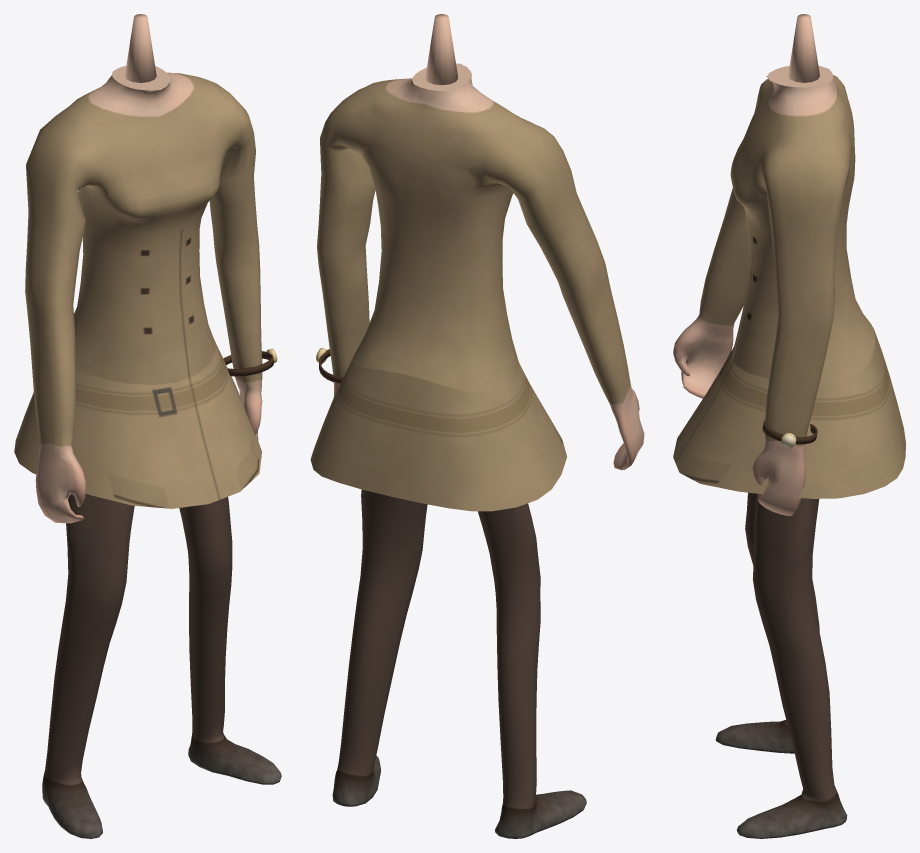
File: PH_NPC__YoungWoman_Body.fbx
3 renders of one model, left to right at view 1: azimuth 30°, elevation 25°; view 2: azimuth 150°, elevation 25°; view 3: azimuth 270°, elevation 25°, orthographic. The views are drawn at different scales.
Visible parts, largest first — view 1: PH_NPC__YoungWoman_Body; view 2: PH_NPC__YoungWoman_Body; view 3: PH_NPC__YoungWoman_Body.
Boxes of the visible parts, x1=… form: PH_NPC__YoungWoman_Body: x1=14, y1=14, x2=281, y2=838; PH_NPC__YoungWoman_Body: x1=310, y1=14, x2=644, y2=838; PH_NPC__YoungWoman_Body: x1=673, y1=14, x2=905, y2=838.
Bounding box in the file's own units: 0.5813 × 1.58 × 0.4339.
